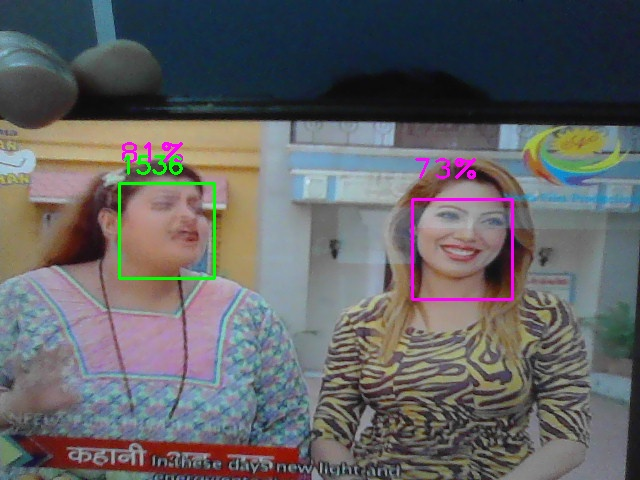fake: (119, 183, 215, 279)
